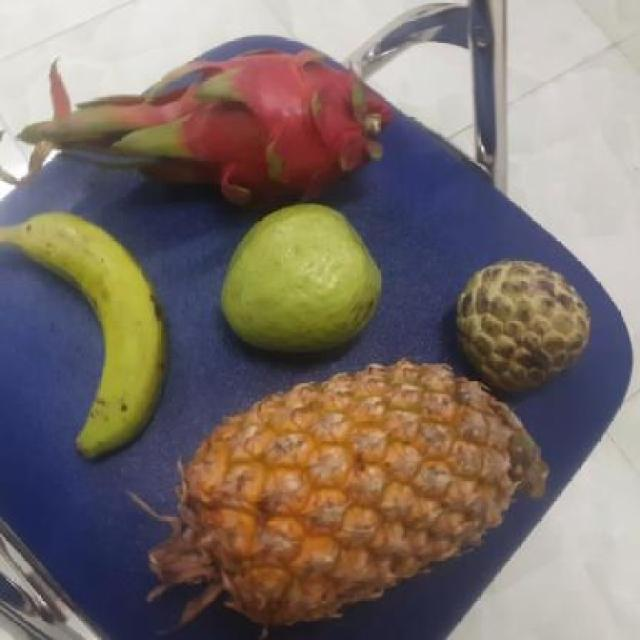banana: (0, 214, 162, 457)
dragon fruit: (113, 41, 382, 214)
guava: (214, 204, 380, 356)
pineapple: (152, 368, 530, 615)
sugar apple: (446, 260, 589, 395)
